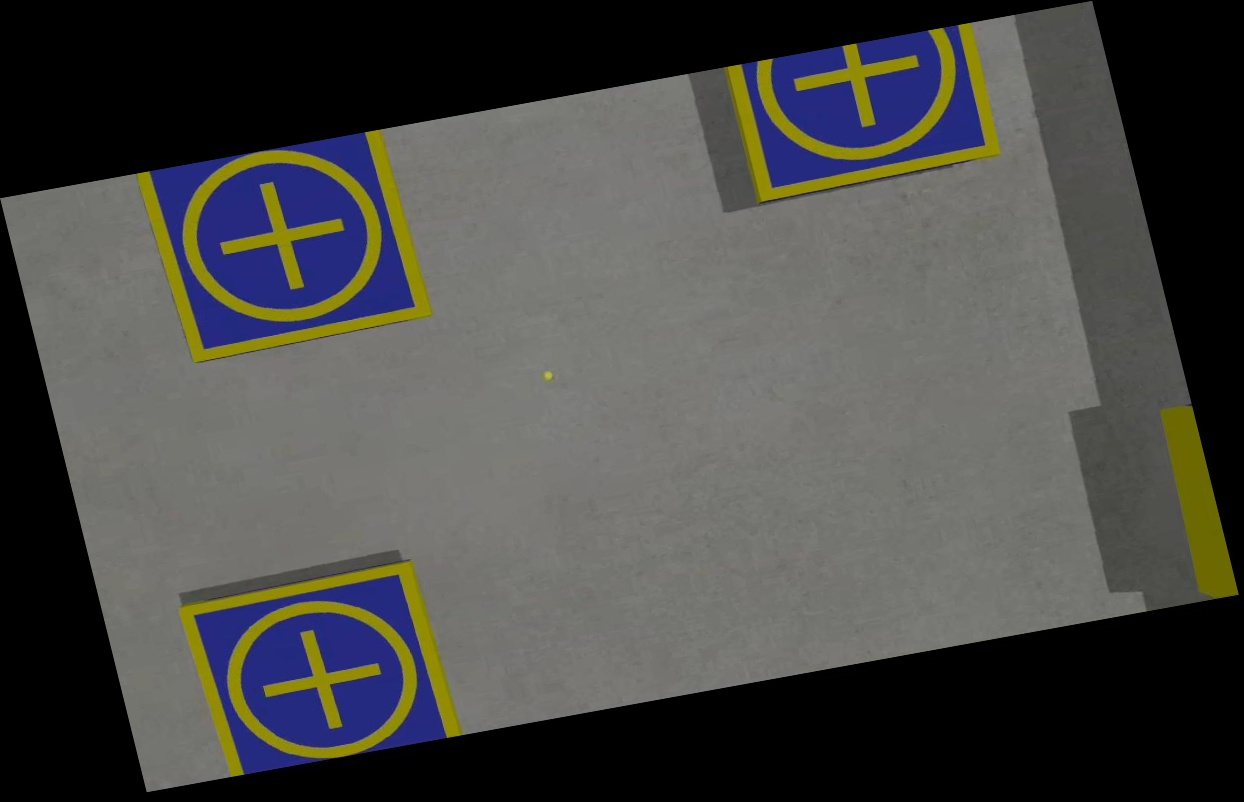small_base: (136, 128, 434, 366), (178, 557, 461, 780), (725, 23, 1004, 204)
